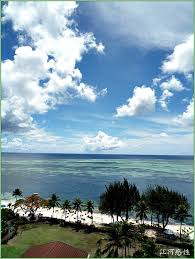beach: (3, 154, 193, 220)
sky: (1, 2, 193, 152)
tree: (8, 189, 100, 226), (100, 184, 141, 253), (143, 180, 184, 249)
